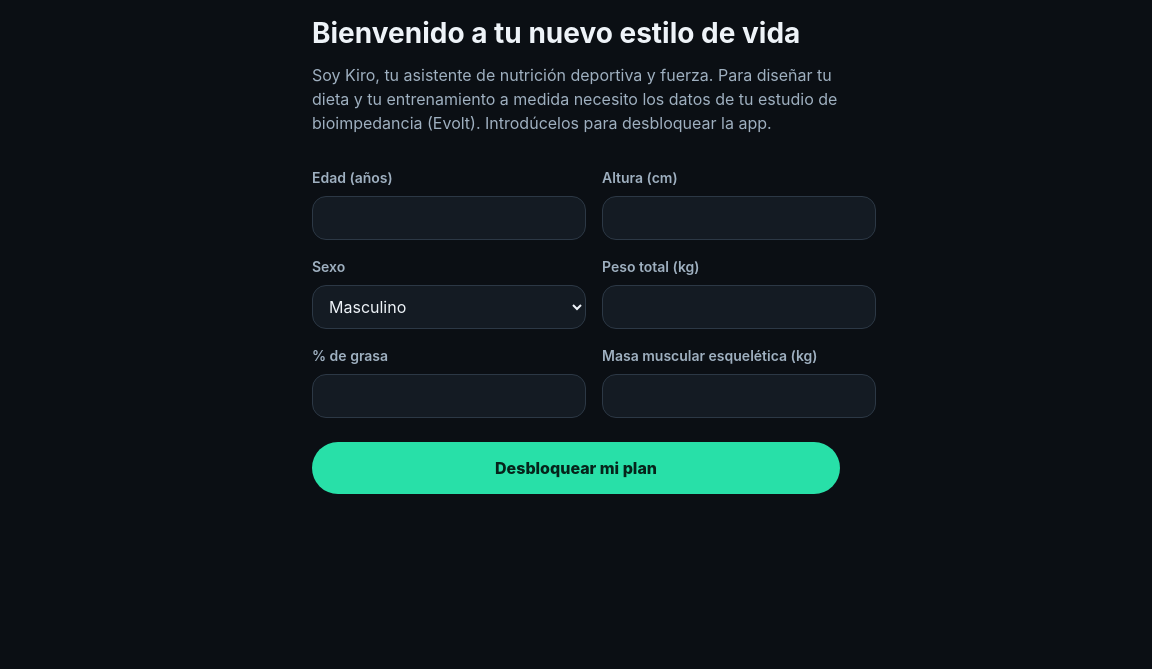
it: Historial de mediciones › con una sola medición el borrado está deshabilitado y se explica por qué
This screenshot has width=1152, height=669.
Expected: the heading "Bienvenido a tu nuevo estilo de vida" is shown, x1=312 y1=17 x2=840 y2=51
Type "30" into the number field labelled "Edad (años)" at {"x": 449, "y": 218}, box x1=312 y1=196 x2=586 y2=240
Type "178" into the number field labelled "Altura (cm)" at {"x": 739, "y": 218}, box x1=602 y1=196 x2=876 y2=240
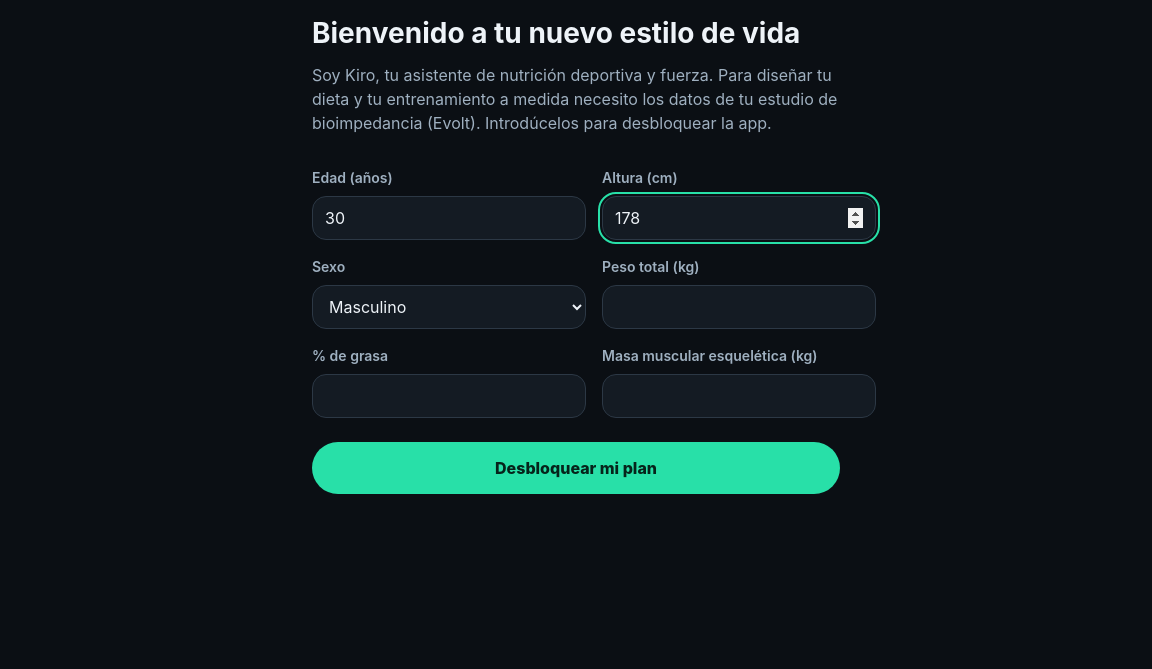
Type "80" into the number field labelled "Peso total (kg)" at {"x": 739, "y": 307}, box x1=602 y1=285 x2=876 y2=329
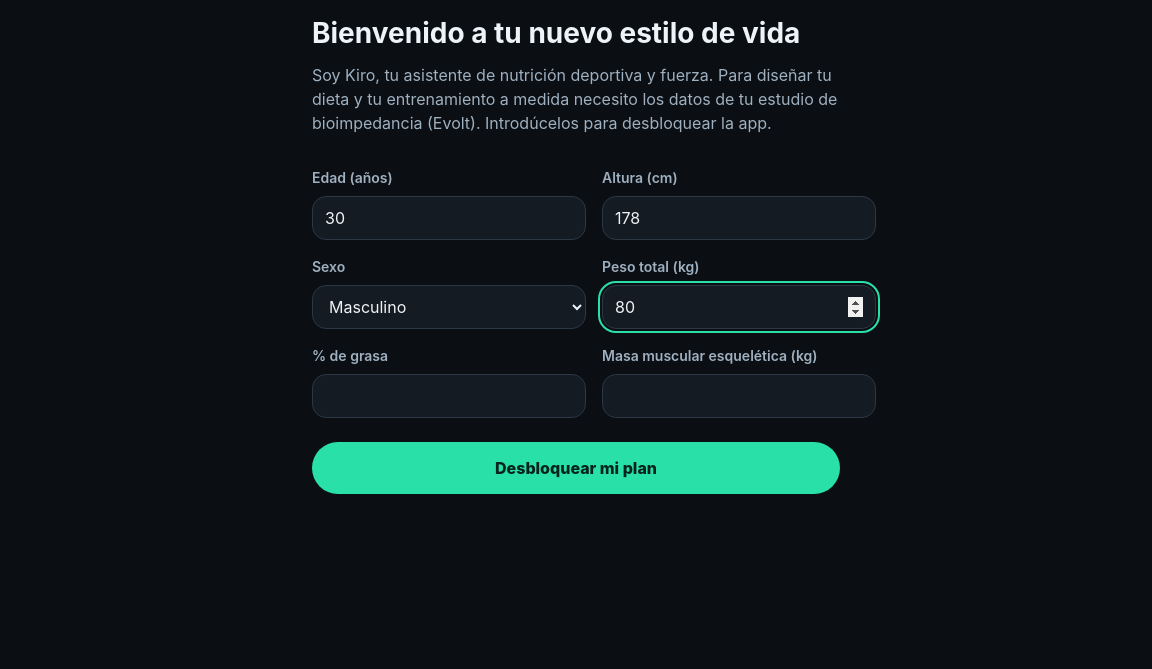
Type "15" into the number field labelled "% de grasa" at {"x": 449, "y": 396}, box x1=312 y1=374 x2=586 y2=418
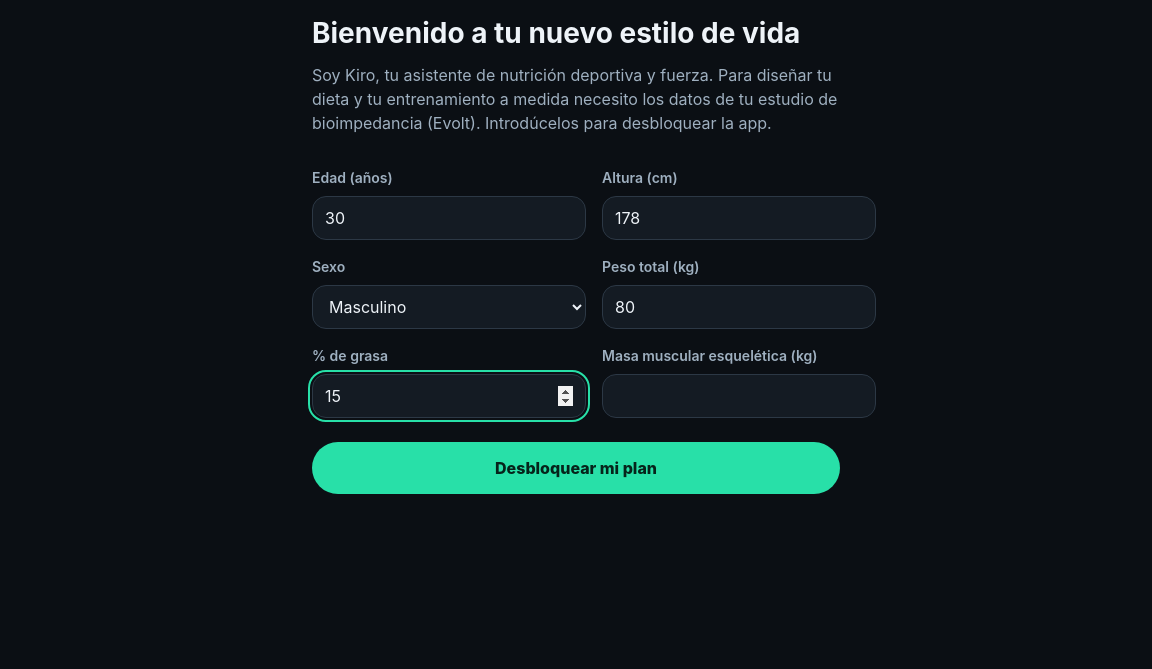
Type "38" into the number field labelled "Masa muscular esquelética (kg)" at {"x": 739, "y": 396}, box x1=602 y1=374 x2=876 y2=418
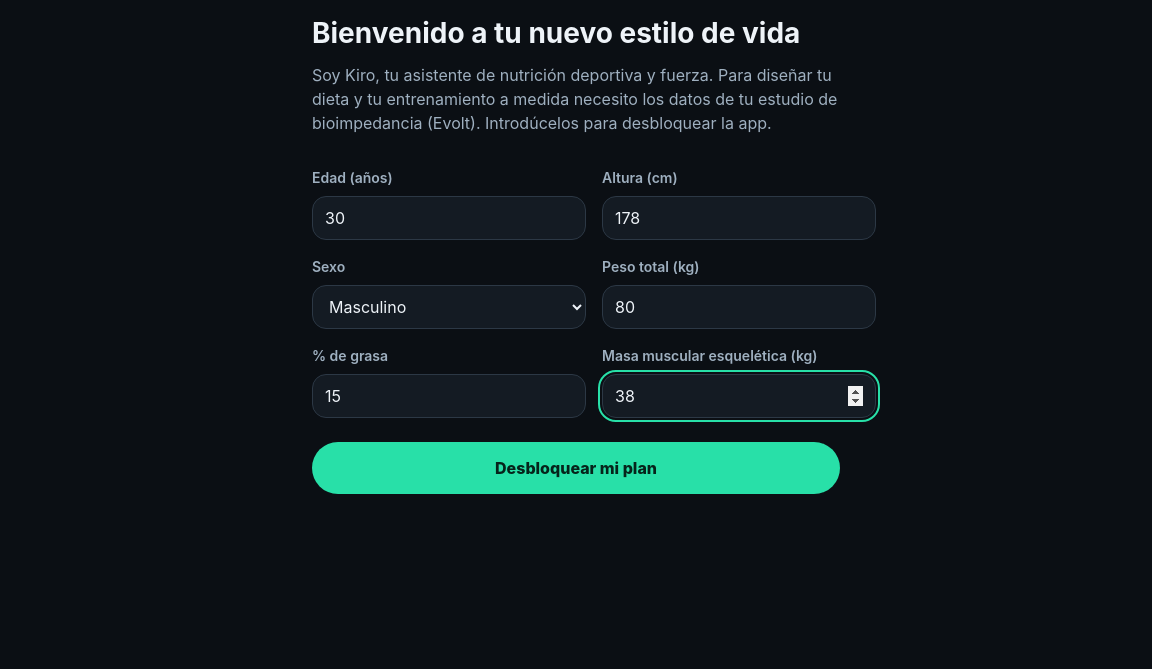
Click the button "Desbloquear mi plan" at {"x": 576, "y": 468}, box x1=312 y1=442 x2=840 y2=494
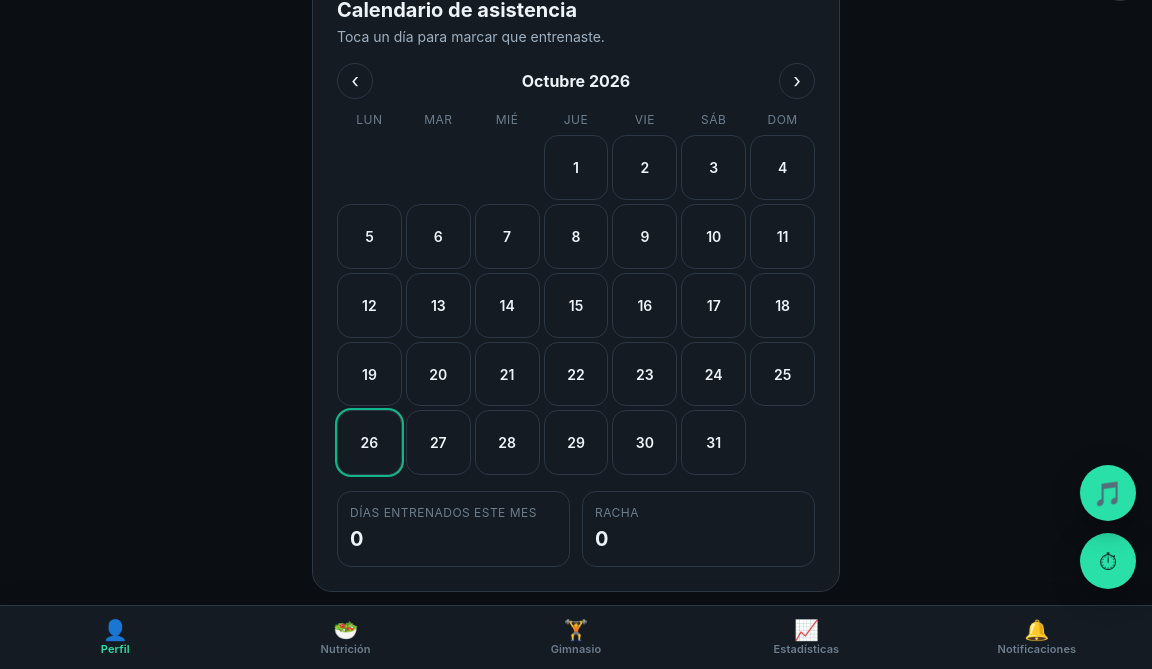
Result: the navigation bar named "navegación principal" is shown at x1=0 y1=605 x2=1151 y2=668
Click the button "📈 Estadísticas" at {"x": 806, "y": 638}, box x1=691 y1=606 x2=922 y2=668
(page scrolled)
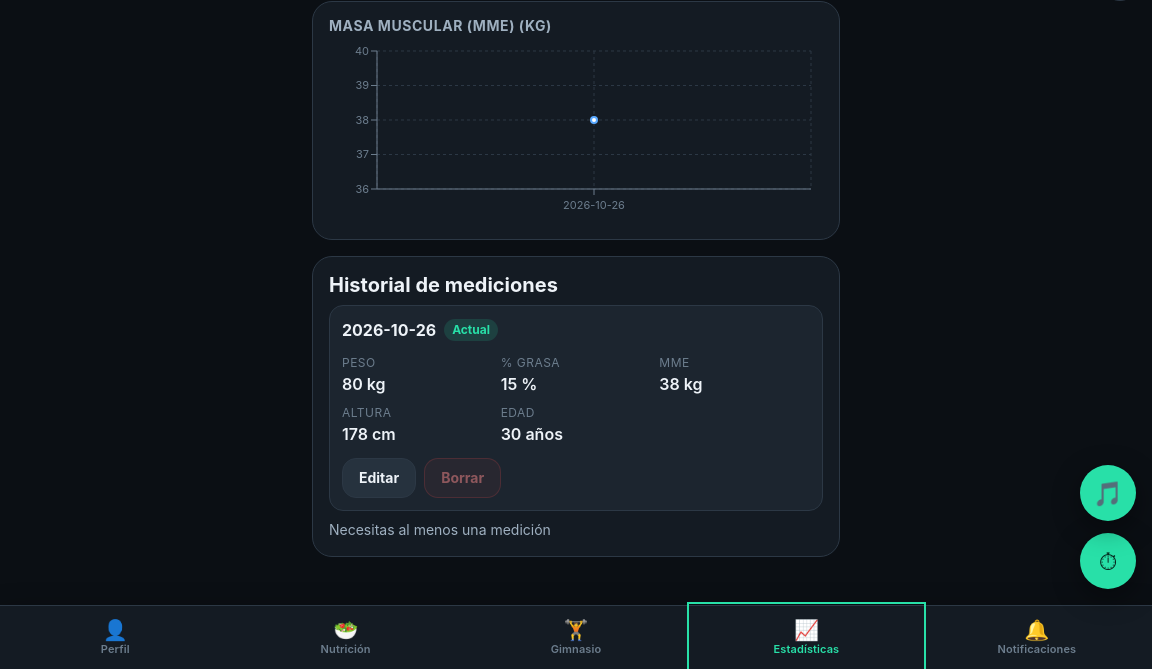
Result: the number of list items is 1 at x1=329 y1=305 x2=823 y2=511
Result: the button with aria-label "Borrar medición del" is disabled at x1=424 y1=458 x2=501 y2=498
Result: the text "Necesitas al menos una medición" is shown at x1=329 y1=521 x2=551 y2=538
